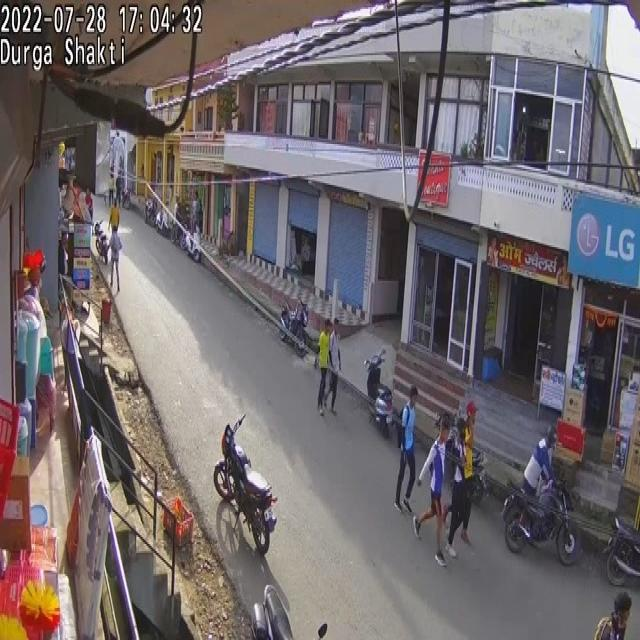non-fight: (412, 413, 452, 566), (445, 400, 476, 551), (520, 424, 556, 536), (396, 384, 418, 512), (316, 319, 332, 413), (108, 224, 121, 293), (191, 192, 201, 234), (109, 172, 116, 208), (115, 174, 122, 207)
